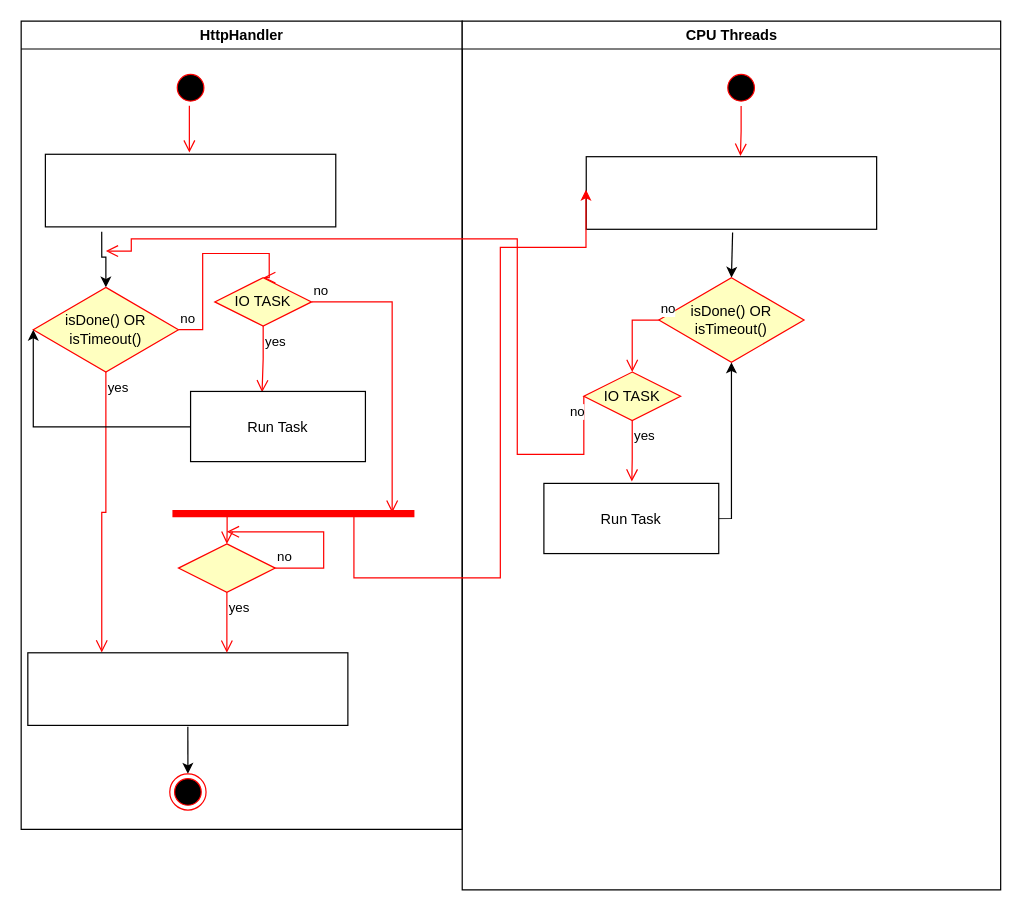
This 1022x911 diagram has some shape labels left out. Here are the shapes that lost their labels. From the top down, the centre of each, then its label:
(190,190): Create Context
(731,192): Wait task
(226,567): isTimeout()
(187,688): Create response
